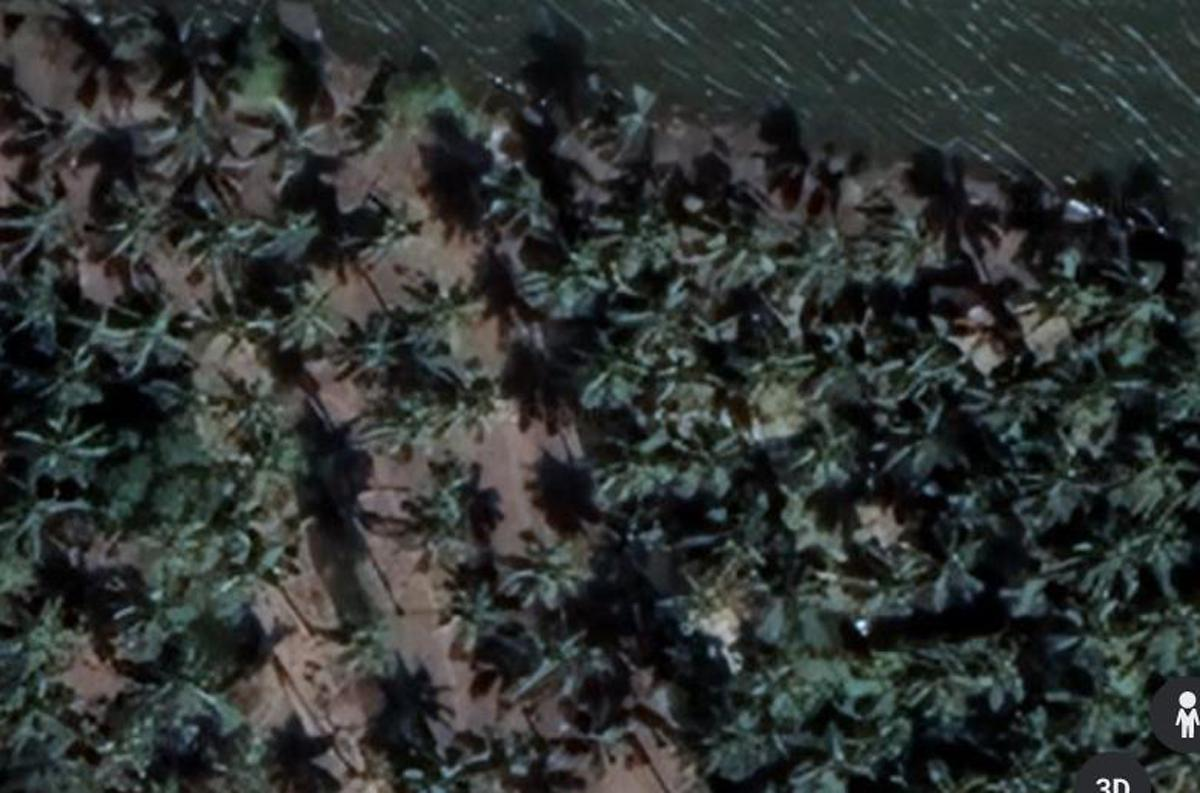coconut: (150, 13, 247, 112), (560, 313, 653, 408), (657, 401, 749, 493), (0, 585, 84, 685), (13, 402, 113, 485), (245, 96, 336, 187), (144, 640, 235, 729), (520, 238, 616, 322), (474, 153, 565, 241), (809, 313, 903, 398), (775, 398, 865, 485), (66, 7, 156, 93), (683, 487, 771, 574), (496, 528, 585, 614), (4, 477, 96, 560), (172, 185, 253, 279), (774, 218, 861, 305), (1101, 250, 1187, 338), (702, 201, 789, 287), (857, 393, 946, 477), (13, 95, 107, 173), (330, 189, 425, 265), (603, 184, 688, 268), (109, 562, 195, 645), (1023, 239, 1109, 322), (860, 533, 943, 619), (669, 554, 754, 637), (511, 608, 593, 694), (144, 96, 235, 173), (553, 688, 634, 774), (1052, 350, 1133, 436), (118, 290, 196, 378), (219, 524, 305, 603), (631, 341, 719, 418), (889, 637, 981, 710), (728, 328, 806, 414), (964, 373, 1046, 454), (21, 341, 106, 418), (0, 673, 73, 762), (258, 276, 338, 356), (683, 688, 763, 768), (0, 175, 82, 253), (1061, 513, 1138, 596), (596, 81, 674, 162), (1030, 434, 1107, 516), (215, 371, 291, 453), (593, 497, 668, 580), (874, 204, 951, 284), (752, 551, 829, 631), (625, 272, 703, 350), (106, 178, 178, 262), (593, 428, 671, 505), (732, 656, 811, 731), (82, 710, 159, 786), (885, 324, 961, 401), (915, 524, 992, 600), (401, 462, 480, 536), (265, 192, 339, 270), (788, 716, 868, 788), (399, 275, 474, 351), (1047, 585, 1124, 659), (1120, 430, 1193, 508), (436, 565, 503, 648), (133, 505, 208, 579), (199, 281, 275, 353), (351, 76, 424, 150), (374, 378, 448, 451), (957, 637, 1030, 711), (439, 365, 514, 436), (408, 734, 496, 793), (222, 433, 298, 501), (1066, 670, 1138, 740), (66, 293, 133, 367), (1121, 496, 1189, 568), (1138, 588, 1200, 662), (342, 319, 410, 384), (331, 616, 401, 677), (845, 717, 912, 780), (1144, 361, 1200, 434), (1004, 703, 1075, 757)
